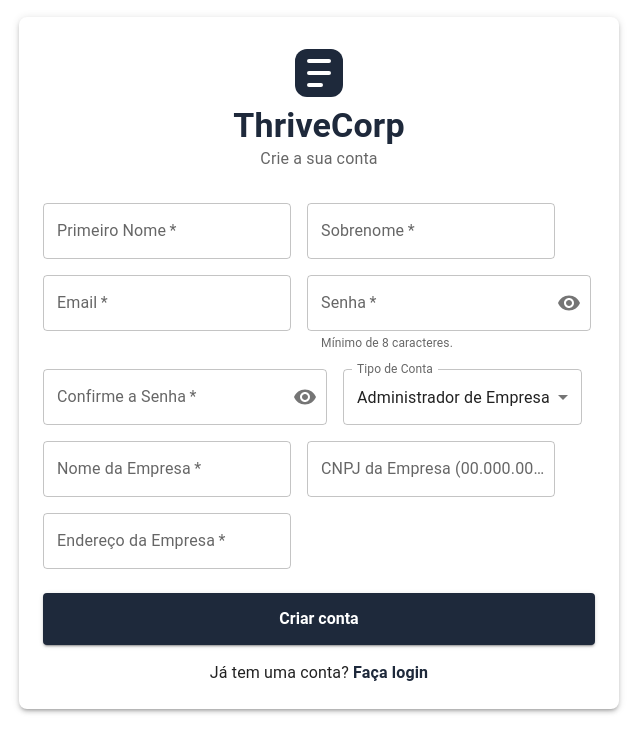
it: RegisterPage Component › deve aplicar a máscara de CPF corretamente (<= 11 dígitos)
This screenshot has width=639, height=731.
In the field labelled "CNPJ da Empresa (00.000.000/0000-00) *": (431, 469) [307,441,555,497], type "12345678901"
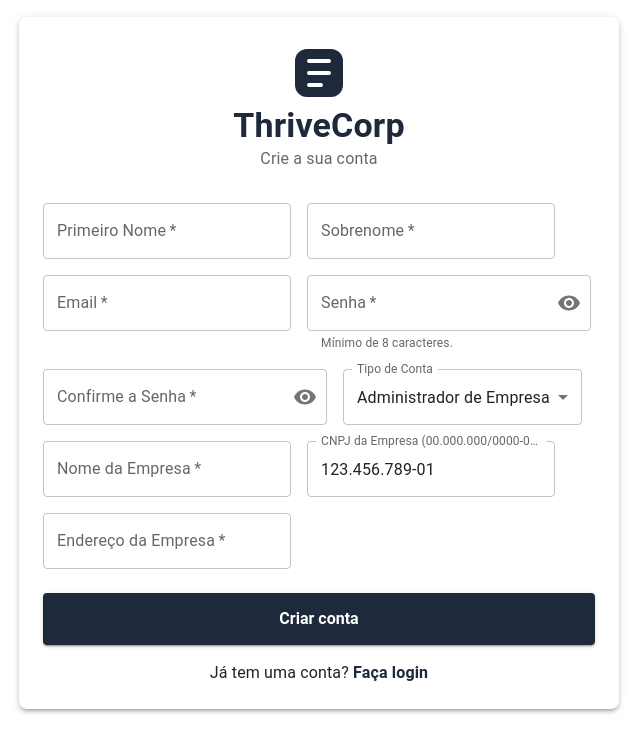
Expected: the field labelled "CNPJ da Empresa (00.000.000/0000-00) *" holds "123.456.789-01", [307,441,555,497]
